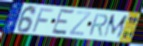6: (15, 4, 38, 34)
E: (50, 8, 76, 36)
F: (31, 7, 55, 33)
M: (102, 14, 130, 40)
R: (87, 13, 110, 37)
Z: (68, 10, 93, 37)
